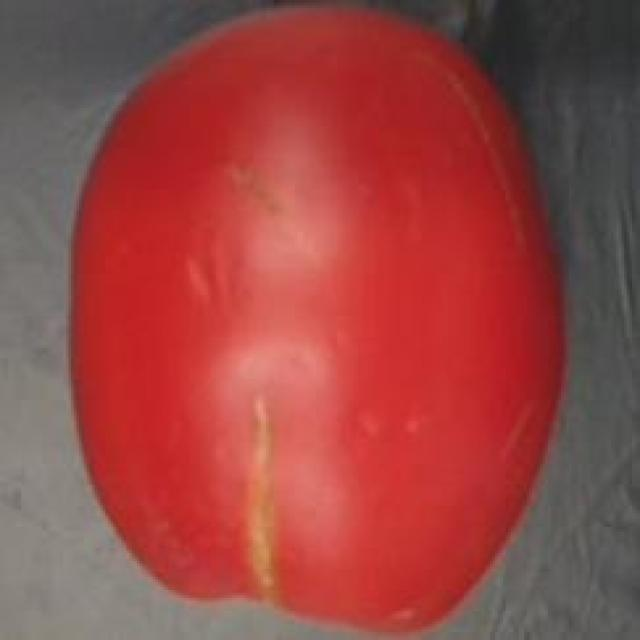overripe tomato: (57, 2, 571, 640)
